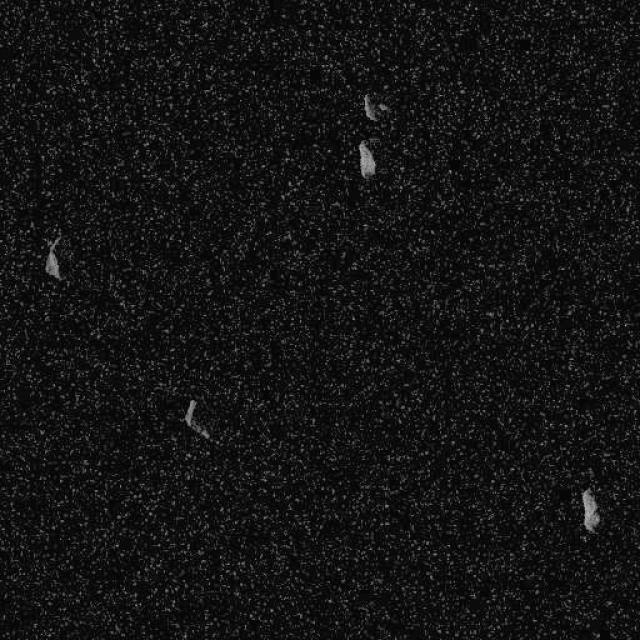D2: (182, 398, 212, 442), (580, 486, 601, 534), (361, 92, 389, 121), (44, 235, 62, 280), (356, 139, 376, 179)
